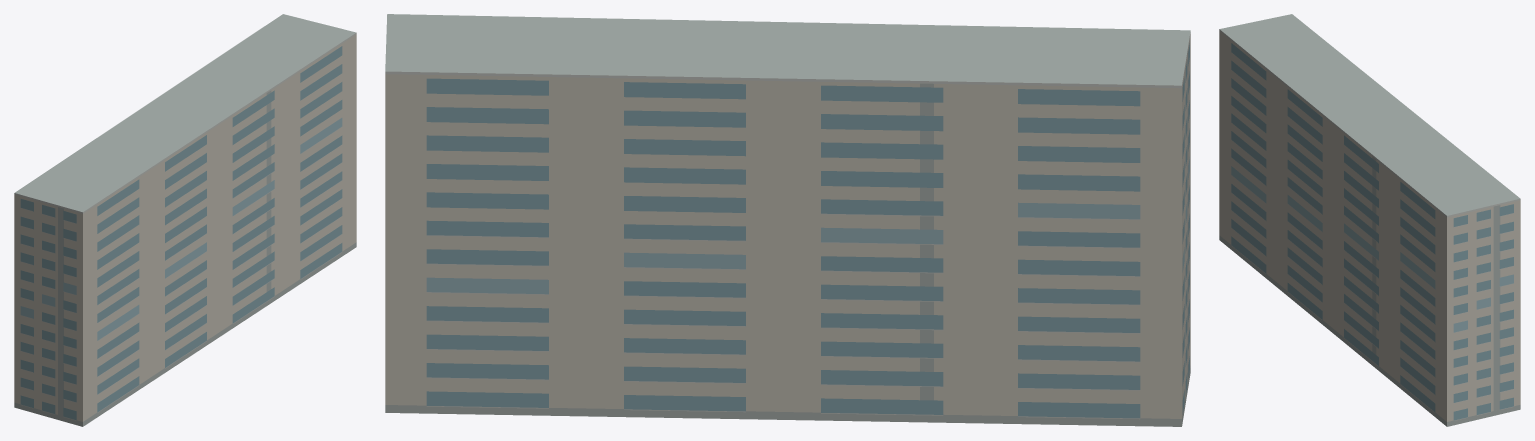
File: residential-7bcfdfb4-b92c-44f8-afbd-cb7f56484f76.glb
3 renders of one model, left to right at view 1: azimuth 30°, elevation 25°; view 2: azimuth 150°, elevation 25°; view 3: azimuth 270°, elevation 25°, orthographic. The views are drawn at different scales.
Parts seen in each view (by area): view 1: residential-7bcfdfb4-b92c-44f8-afbd-cb7f56484f76.tmp; view 2: residential-7bcfdfb4-b92c-44f8-afbd-cb7f56484f76.tmp; view 3: residential-7bcfdfb4-b92c-44f8-afbd-cb7f56484f76.tmp.
Boxes of the visible parts, x1=… form: residential-7bcfdfb4-b92c-44f8-afbd-cb7f56484f76.tmp: x1=14, y1=14, x2=356, y2=426; residential-7bcfdfb4-b92c-44f8-afbd-cb7f56484f76.tmp: x1=385, y1=14, x2=1190, y2=426; residential-7bcfdfb4-b92c-44f8-afbd-cb7f56484f76.tmp: x1=1219, y1=14, x2=1520, y2=426.
Size of the model in its own units: 65.69 by 32 by 41.4.
